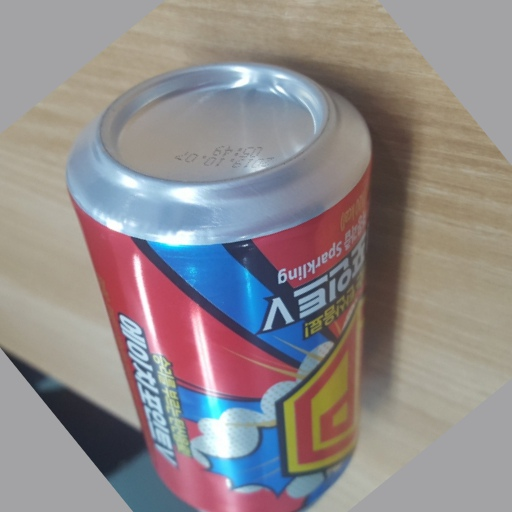Metal_0: (66, 64, 376, 512)
